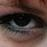eye: (15, 16, 30, 26)
